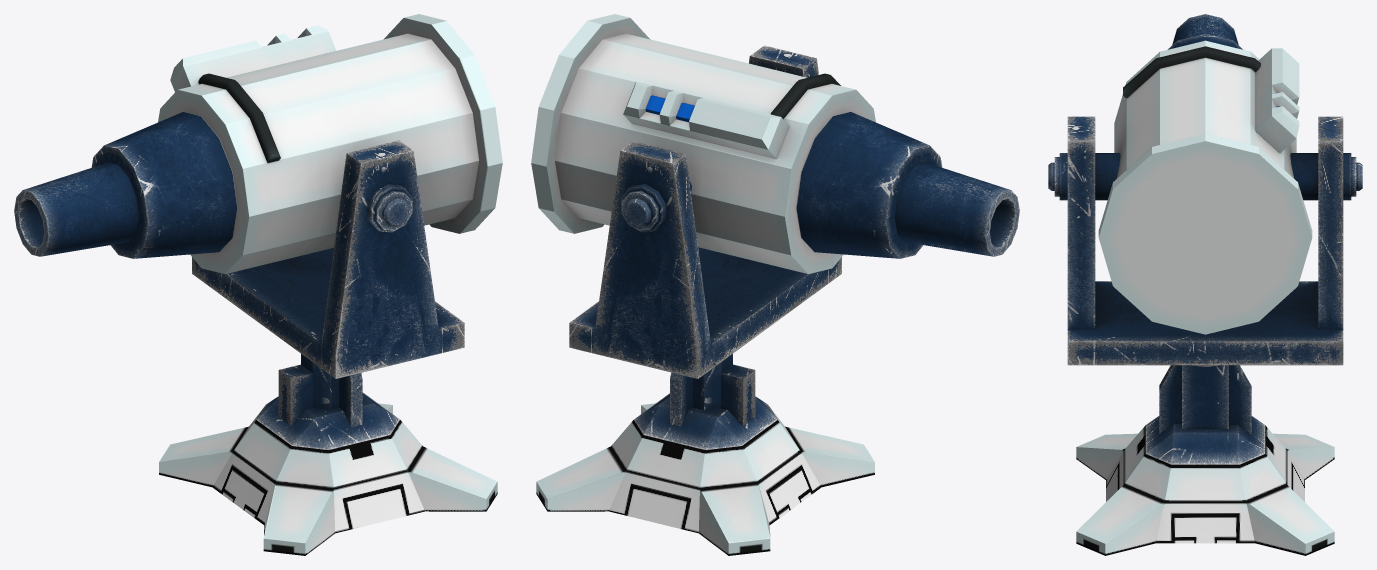
File: turret-2.glb
The picture shows the model from 3 angles, left to right: view 1: azimuth 30°, elevation 25°; view 2: azimuth 150°, elevation 25°; view 3: azimuth 270°, elevation 25°; orthographic projection. The views are drawn at different scales.
Parts seen in each view (by area): view 1: Object_2; view 2: Object_2; view 3: Object_2.
Part boxes in pixels (x1,y1,x2,y2): Object_2: [14, 14, 502, 555]; Object_2: [531, 14, 1019, 555]; Object_2: [1048, 14, 1362, 555].
Size of the model in its own units: 751 by 750 by 514.
Materials: 1 (1 with a texture image).
